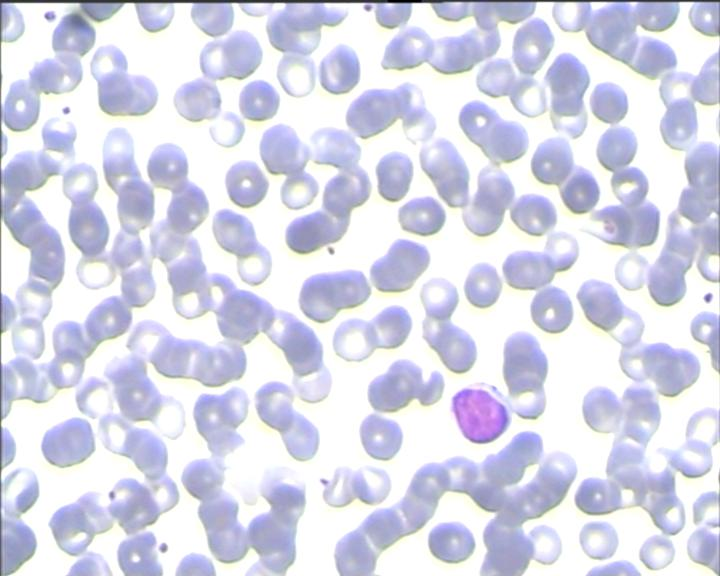lymp: (448, 377, 512, 449)
